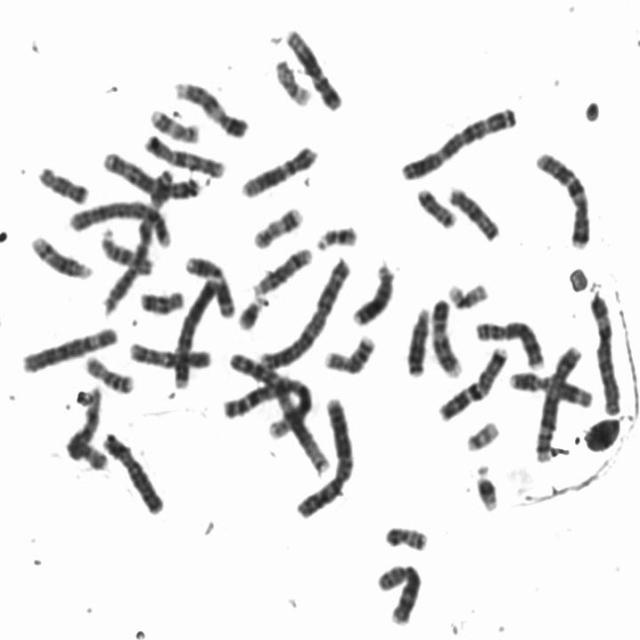A1: (223, 346, 331, 476), (218, 368, 316, 437)
A2: (255, 252, 353, 371), (290, 392, 356, 519)
A3: (97, 159, 176, 318), (396, 100, 520, 183)
B4: (169, 272, 222, 391), (64, 195, 174, 249)
B5: (532, 340, 586, 463), (99, 145, 203, 201)
C10: (140, 130, 226, 179), (124, 335, 213, 372)
C11: (504, 364, 596, 410), (180, 250, 236, 320)
C12: (282, 23, 346, 112), (237, 139, 321, 199)
C6: (18, 320, 121, 375), (586, 290, 624, 416)
C7: (530, 146, 593, 250), (433, 342, 511, 422)
C8: (471, 314, 548, 371), (373, 556, 425, 627)
C9: (170, 74, 250, 139), (427, 293, 464, 379)
D13: (348, 258, 398, 328), (402, 302, 432, 378)
D14: (248, 241, 314, 297), (26, 229, 94, 281)
D15: (444, 181, 503, 243), (96, 224, 157, 277)
E16: (319, 328, 379, 376), (81, 350, 137, 396)
E17: (248, 201, 306, 251), (144, 102, 203, 145)
E18: (33, 160, 92, 206), (136, 284, 188, 316)
F19: (270, 53, 314, 108), (443, 276, 492, 312)
F20: (412, 183, 459, 229), (380, 519, 430, 553)
G21: (471, 460, 502, 513), (234, 290, 268, 332)
G22: (312, 220, 360, 251), (462, 416, 502, 453)
X: (99, 428, 168, 518)
